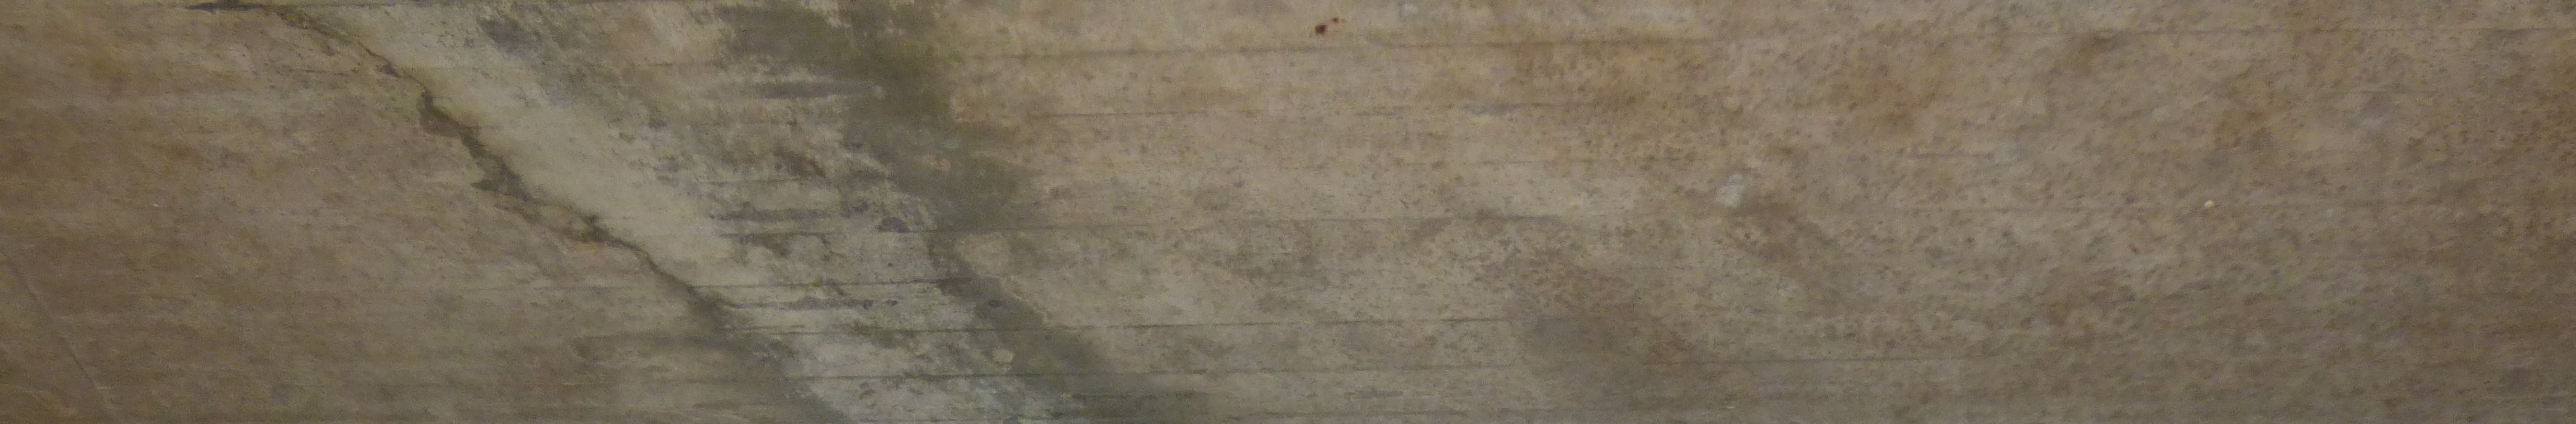Corrosion: (271, 0, 1166, 424)
